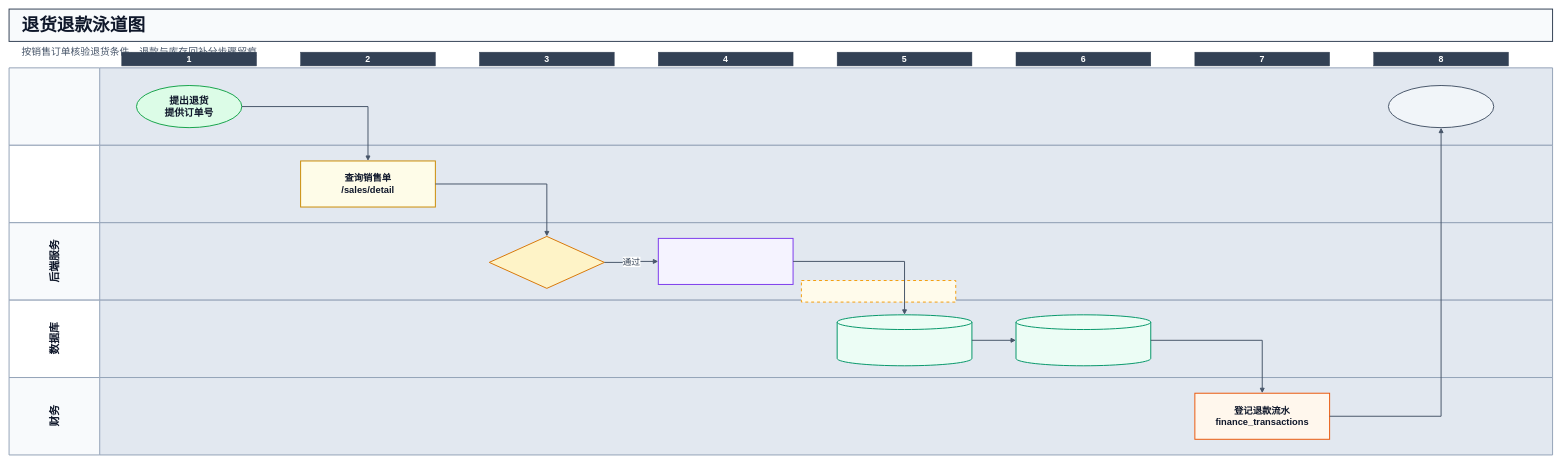
Image size: 1561x464. Some labels were removed from this diagram. The box of each missing label's shape, as (x1, y1, x2, y2) in pixels:
不符合条件 -> 拒绝退货并说明原因: (801, 280, 956, 302)
前端页面: (8, 145, 1553, 223)
回补库存 inventory logs: return: (1015, 314, 1151, 366)
打印退货凭证 流程结束: (1388, 85, 1494, 128)
更新订单状态 sales.status: (836, 314, 972, 366)
校验订单状态 商品/数量/时限: (489, 236, 605, 289)
计算退款金额 按原支付方式: (658, 238, 793, 285)
顾客/收银员: (8, 67, 1553, 146)
